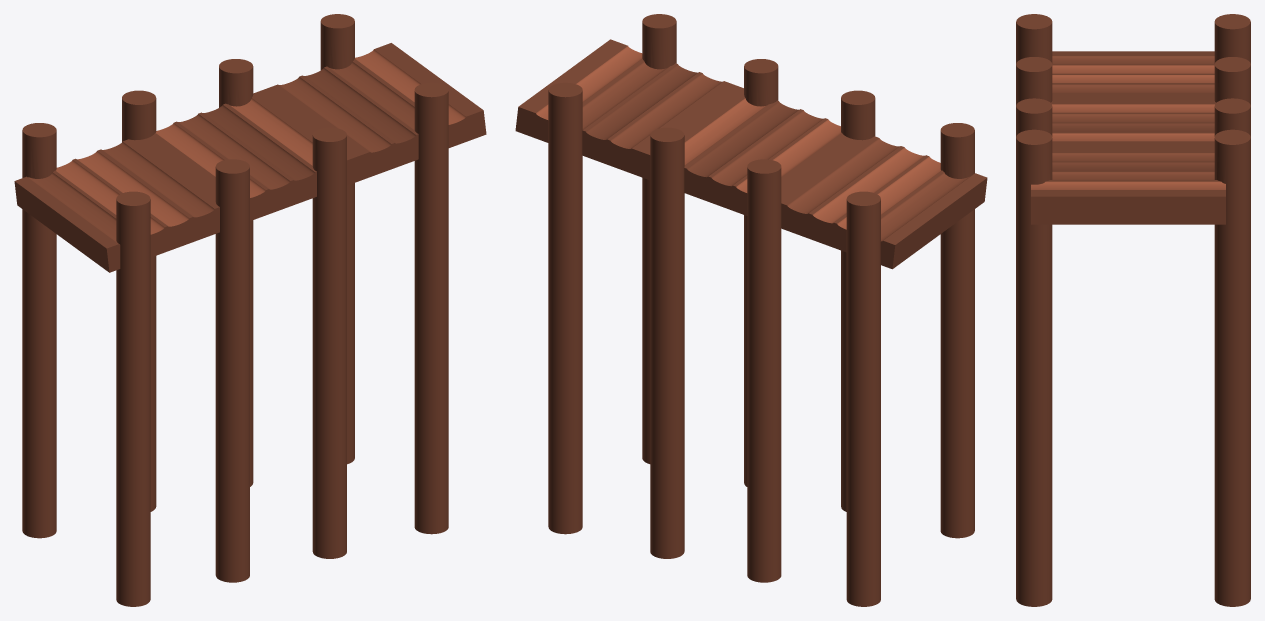
The model's file is preHarborPier.fbx.
The picture shows the model from 3 angles, left to right: view 1: azimuth 30°, elevation 25°; view 2: azimuth 150°, elevation 25°; view 3: azimuth 270°, elevation 25°; orthographic projection. The views are drawn at different scales.
Visible parts, largest first — view 1: Model; view 2: Model; view 3: Model.
Boxes of the visible parts, <box> form: Model: <box>14,14,486,606</box>; Model: <box>515,14,987,606</box>; Model: <box>1016,14,1250,606</box>.
Size of the model in its own units: 1142 by 1255 by 578.
